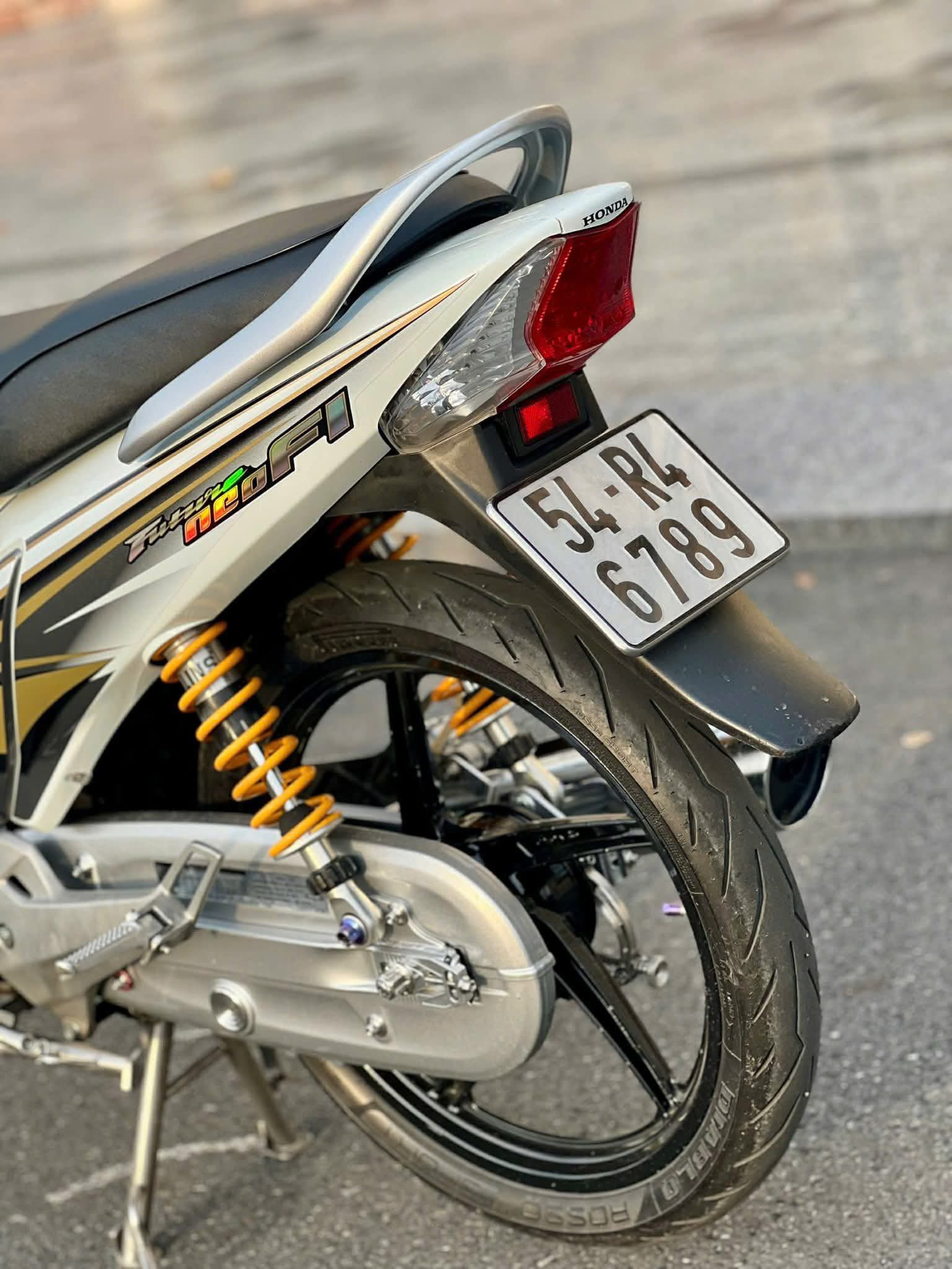bien_so: (477, 392, 798, 660)
